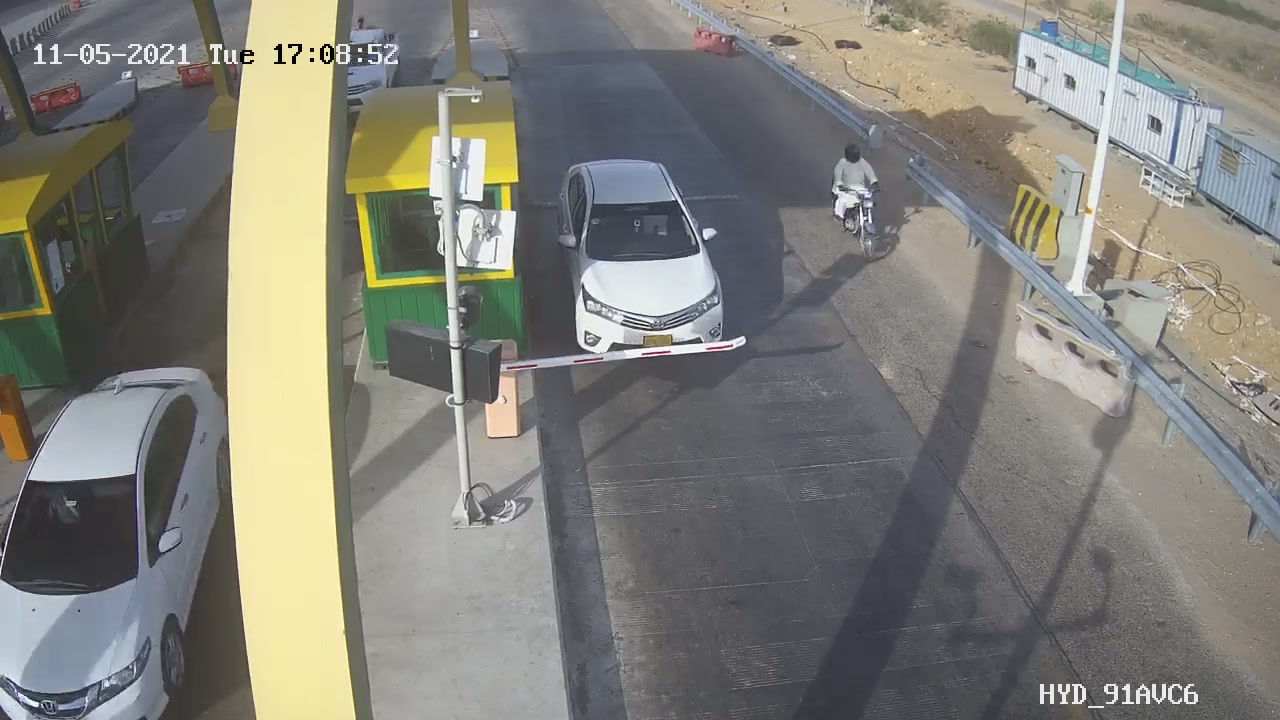F1: (535, 140, 755, 379)
